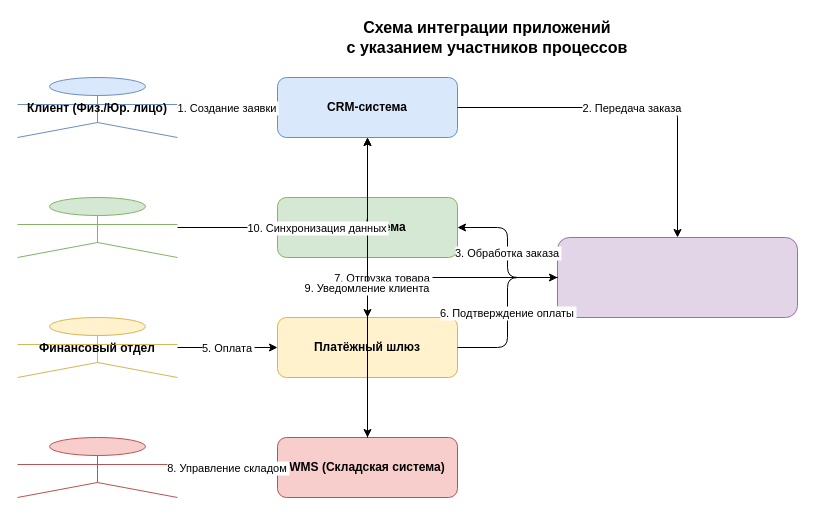
Some shapes in this 815 by 515 pixel diagram are drawn without their labels. Each missing label, with the centre of its shape:
Интеграционная шина (ESB/API Gateway): [677,277]
Менеджер по продажам: [97,227]
Склад: [97,467]
